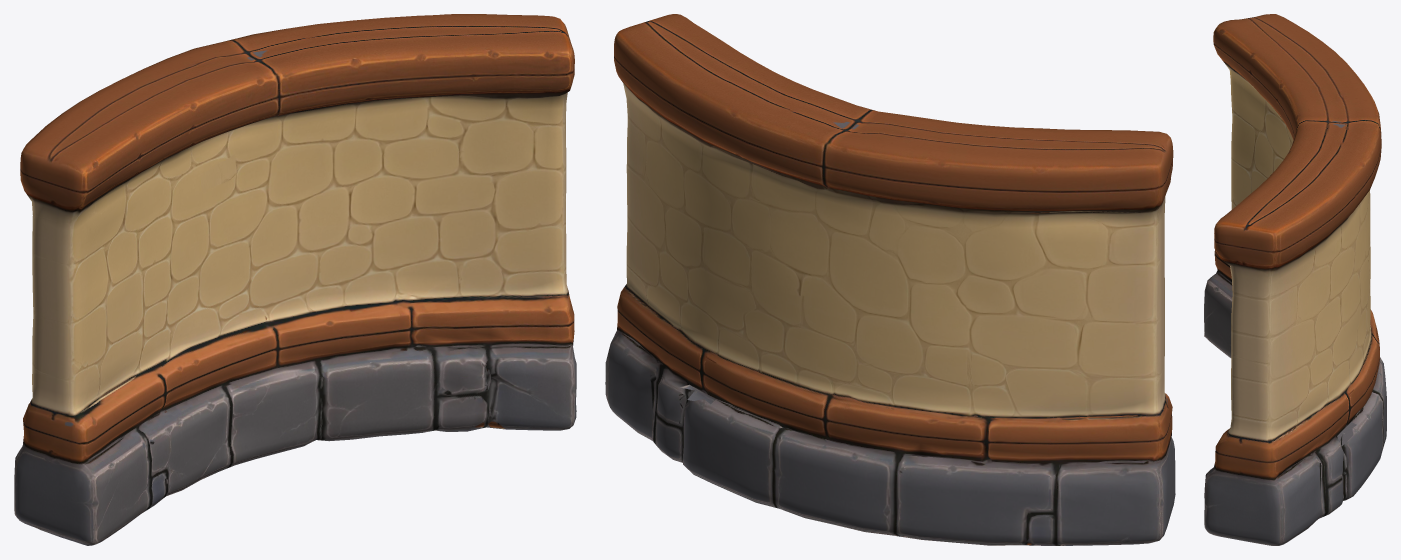
Rendered from Wall.fbx.
The picture shows the model from 3 angles, left to right: view 1: azimuth 30°, elevation 25°; view 2: azimuth 150°, elevation 25°; view 3: azimuth 270°, elevation 25°; orthographic projection. The views are drawn at different scales.
Visible parts, largest first — view 1: tripo_node_39972aa3; view 2: tripo_node_39972aa3; view 3: tripo_node_39972aa3.
Boxes of the visible parts, left/top/right/bottom form: tripo_node_39972aa3: left=14, top=14, right=576, bottom=545; tripo_node_39972aa3: left=605, top=14, right=1175, bottom=545; tripo_node_39972aa3: left=1204, top=14, right=1386, bottom=545.
Bounding box in the file's own units: 390 × 258 × 134.
1 material, 1 textured.
